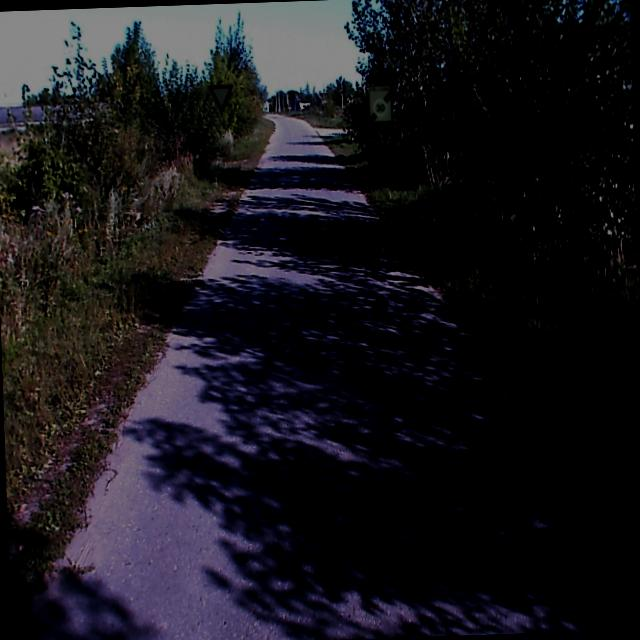road: (27, 119, 640, 640)
